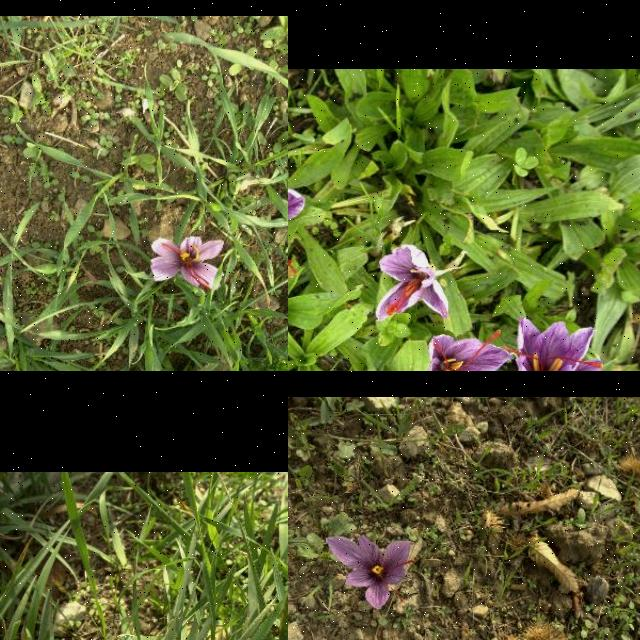flower: (327, 534, 415, 610), (376, 246, 450, 322), (150, 238, 224, 290), (428, 330, 510, 371), (288, 175, 307, 271)
overlap: (506, 317, 640, 371)
